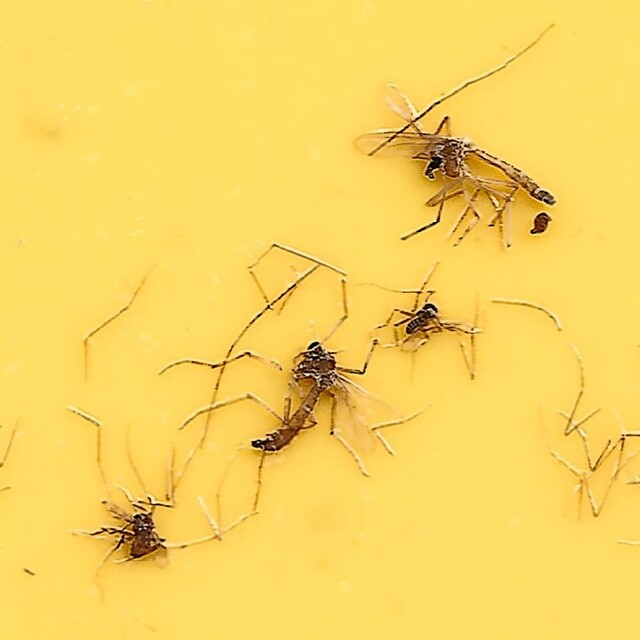Nematocera: (357, 81, 556, 252), (244, 333, 381, 468), (84, 494, 167, 559), (399, 289, 453, 347)
